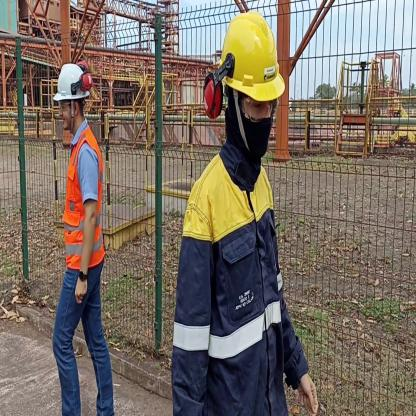Balaclava: (226, 90, 270, 181)
C_eletrica: (171, 159, 311, 416)
Capacete: (208, 9, 288, 94), (53, 61, 90, 102)
colete: (60, 140, 108, 271)
